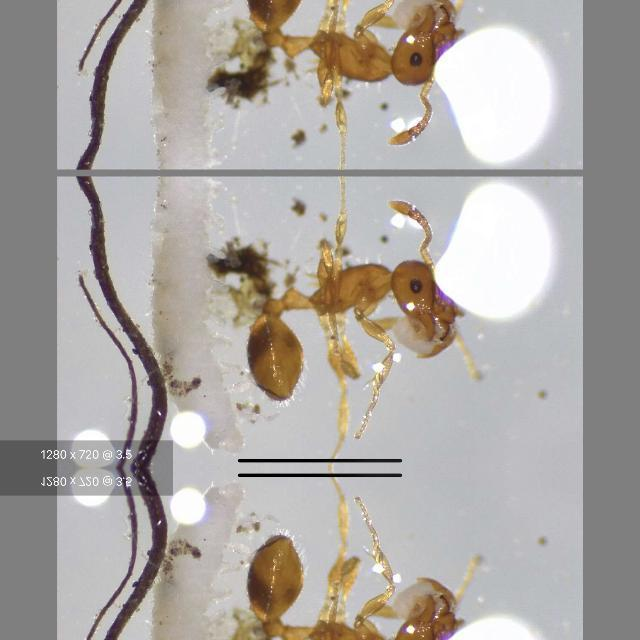Temnothorax: (198, 198, 474, 416), (196, 0, 473, 144), (196, 518, 474, 640)
